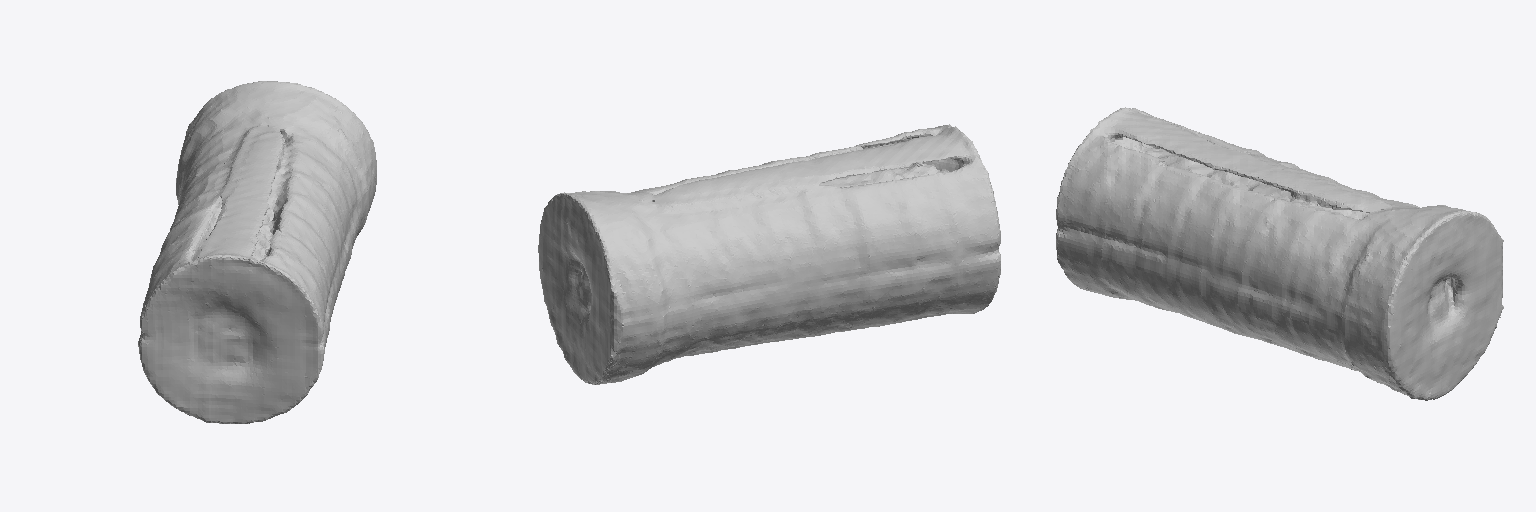
File: replicate-prediction-b2kww775a1rgg0cf8z4traxd18-2.obj
3 views of the same model, side by side, from view 1: azimuth 30°, elevation 25°; view 2: azimuth 150°, elevation 25°; view 3: azimuth 270°, elevation 25° (orthographic).
Bounding box in the file's own units: 1.79 × 0.8723 × 1.99.